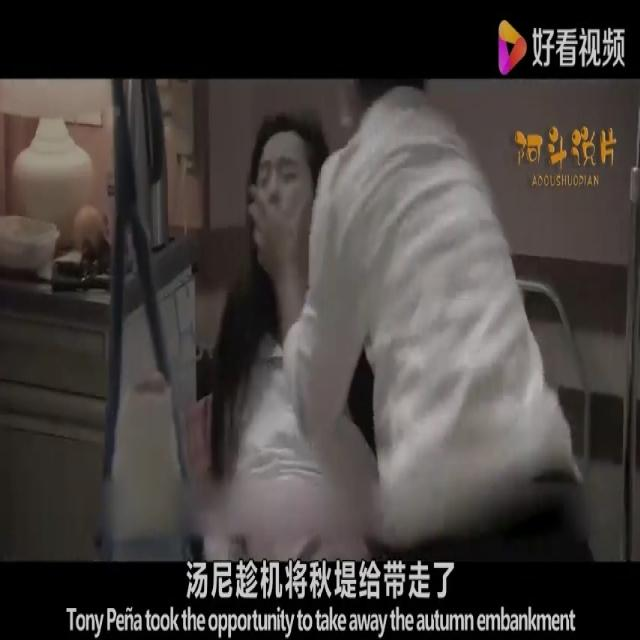fight: (194, 76, 585, 620)
